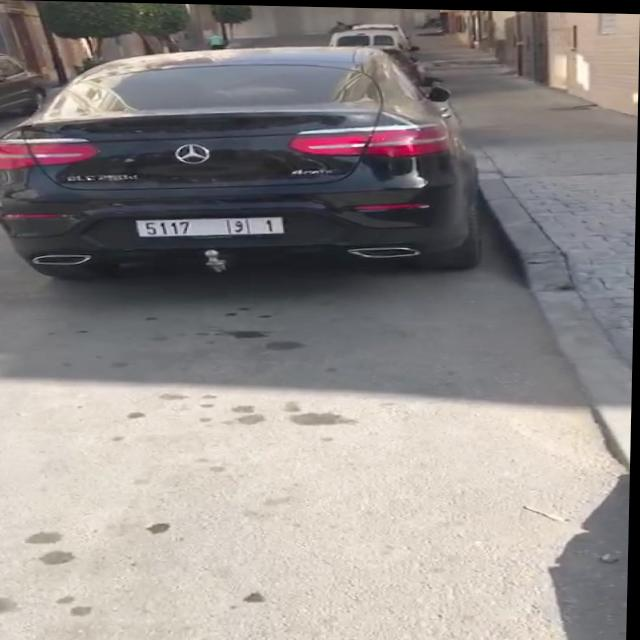License-Plate: (139, 217, 284, 236)
